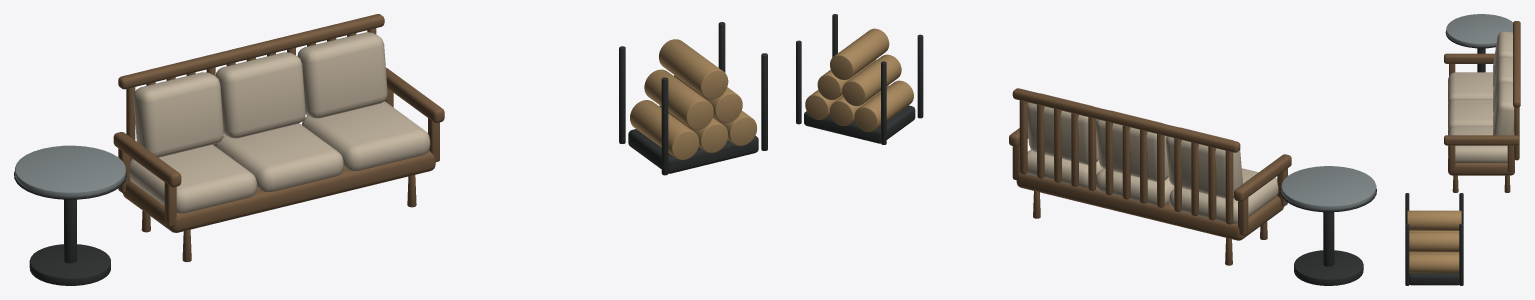
File: alpine-furniture.glb
The picture shows the model from 3 angles, left to right: view 1: azimuth 30°, elevation 25°; view 2: azimuth 150°, elevation 25°; view 3: azimuth 270°, elevation 25°; orthographic projection. The views are drawn at different scales.
Parts seen in each view (by area): view 1: Individual tailored seat cushion, Floating bench frame, Split oak log, Weighted pedestal, Honed stone side table; view 2: Floating bench frame, Individual tailored seat cushion, Split oak log, Weighted pedestal, Honed stone side table; view 3: Individual tailored seat cushion, Floating bench frame, Split oak log, Weighted pedestal, Honed stone side table.
Boxes of the visible parts, <box> form: Individual tailored seat cushion: <box>129,32,430,213</box>; Floating bench frame: <box>113,14,444,261</box>; Split oak log: <box>630,39,757,160</box>; Weighted pedestal: <box>14,22,767,285</box>; Honed stone side table: <box>15,145,125,197</box>; Floating bench frame: <box>1009,88,1291,265</box>; Individual tailored seat cushion: <box>1026,93,1278,223</box>; Split oak log: <box>805,28,913,131</box>; Weighted pedestal: <box>796,14,1376,285</box>; Honed stone side table: <box>1281,166,1376,209</box>; Individual tailored seat cushion: <box>1448,31,1514,162</box>; Floating bench frame: <box>1444,21,1520,192</box>; Split oak log: <box>1407,210,1461,273</box>; Weighted pedestal: <box>1405,30,1495,285</box>; Honed stone side table: <box>1446,14,1513,46</box>.
Bounding box in the file's own units: 4.28 × 0.9025 × 0.9805.
